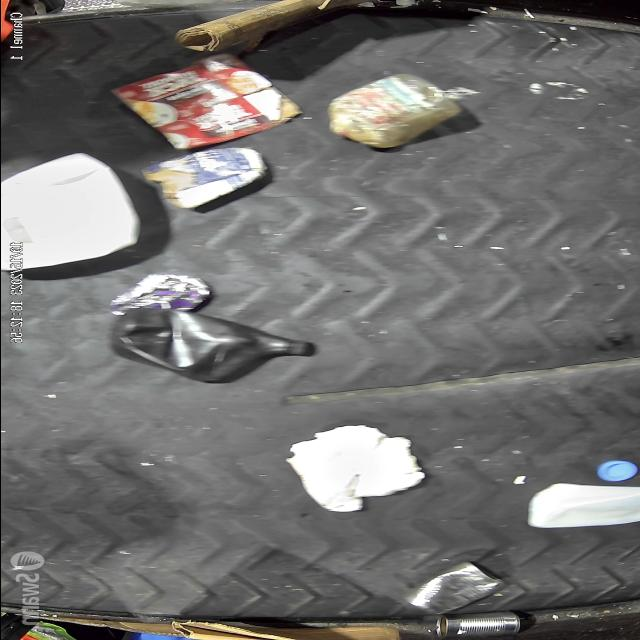can: (403, 562, 505, 616), (434, 610, 520, 640)
milk_jug: (0, 153, 140, 271), (526, 482, 640, 529)
non_white_jug: (104, 309, 310, 383)
